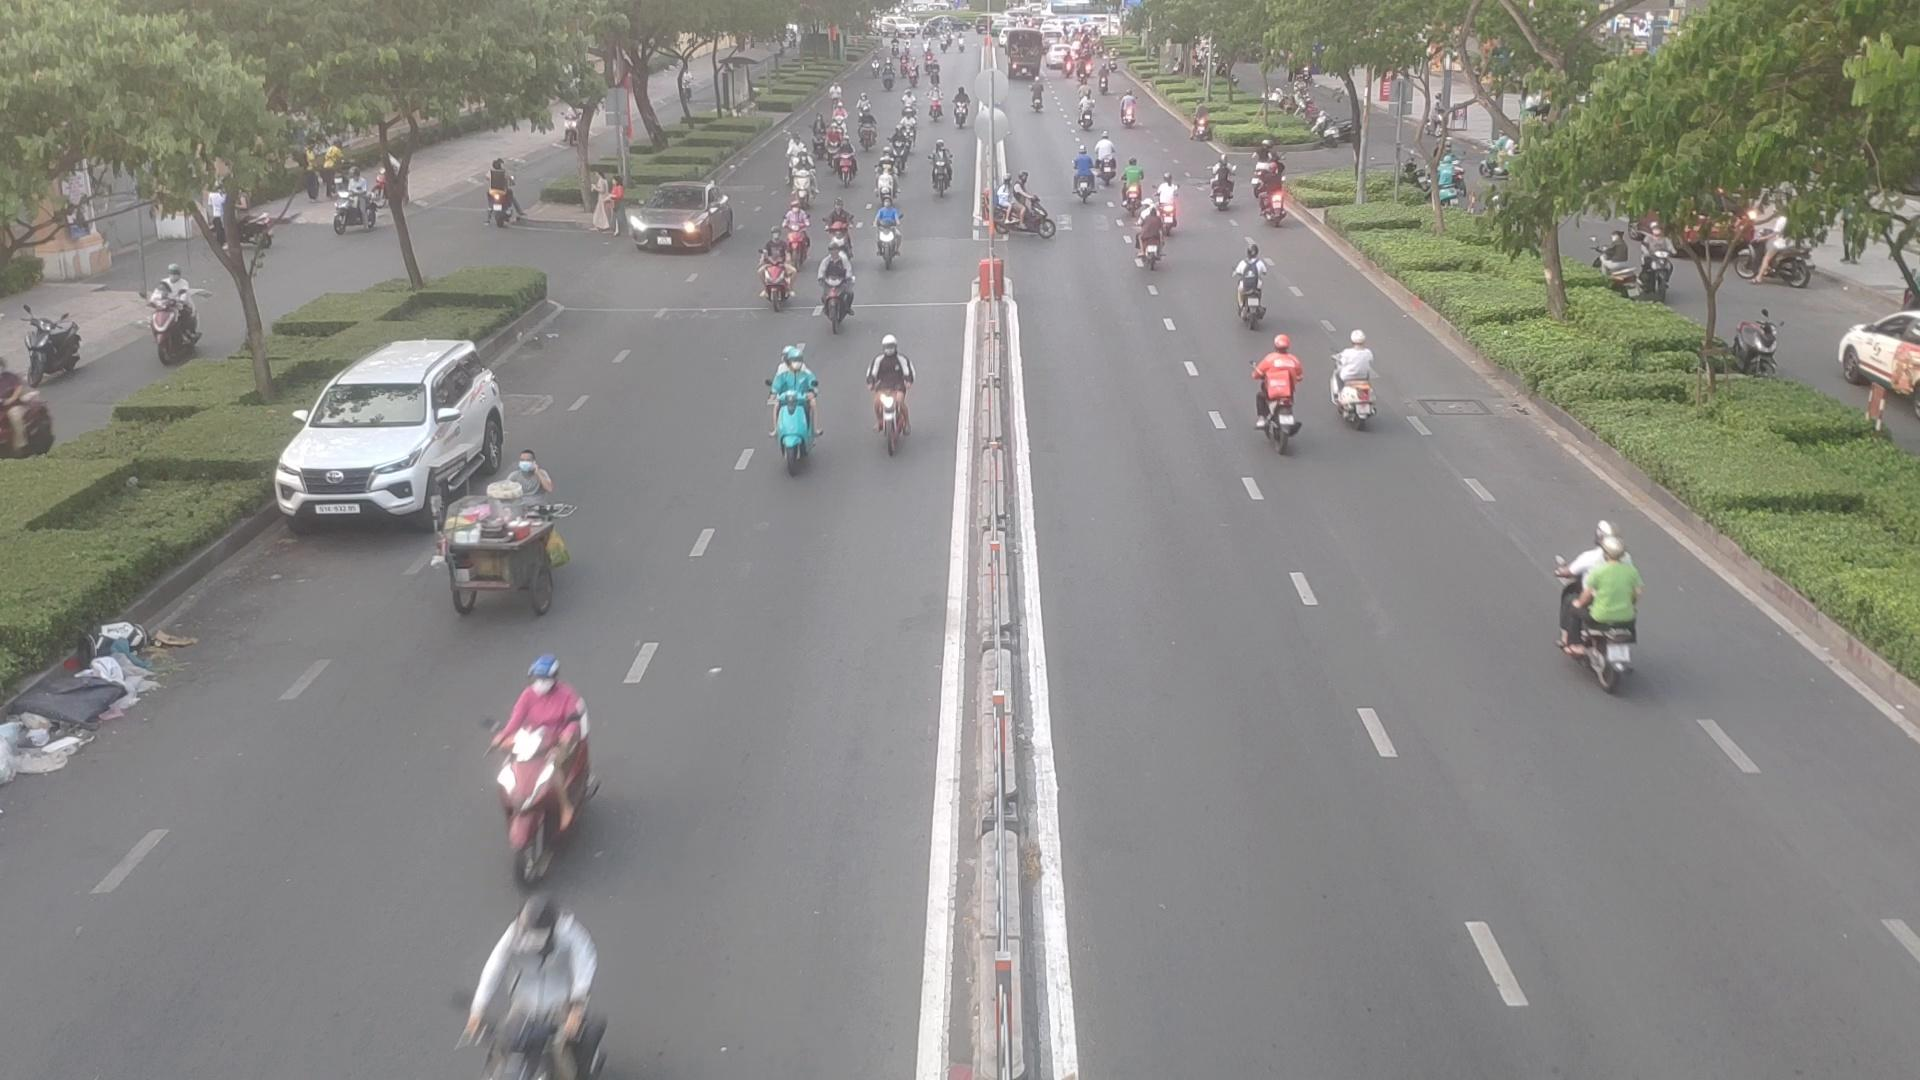car: (274, 348, 522, 535), (618, 194, 745, 257)
motorbike: (464, 905, 611, 1080), (480, 665, 601, 869), (1549, 527, 1654, 695), (760, 353, 831, 477), (1246, 348, 1312, 451), (1327, 338, 1393, 435), (866, 334, 916, 451), (993, 191, 1068, 243), (1232, 257, 1276, 331), (752, 240, 796, 311), (864, 206, 910, 272), (818, 264, 861, 328), (1073, 149, 1126, 198), (1065, 156, 1106, 203), (1151, 185, 1187, 235), (927, 150, 957, 196), (832, 145, 860, 186)
